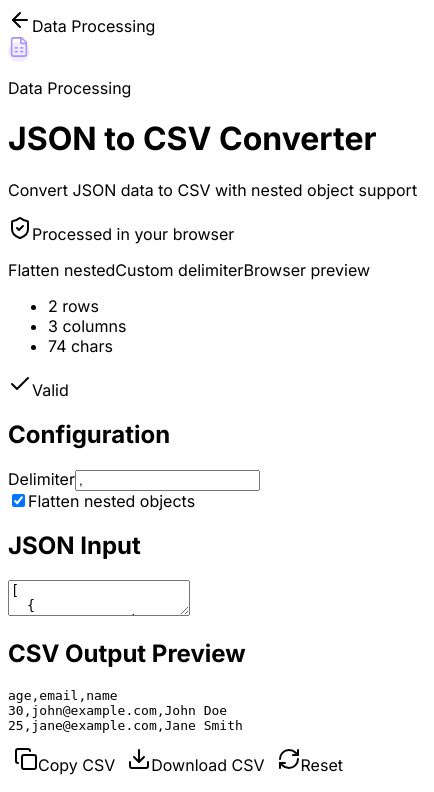
Scenario: JSON to CSV Converter Page › Error Handling › displays error icon for invalid JSON
Clear the text box with test id "codemirror-editor" at (99, 598), box [8,580,190,616]
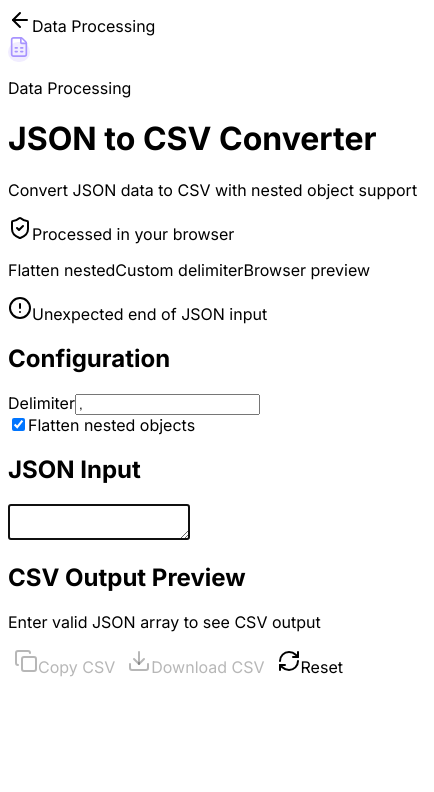
Type "bad json" into the text box with test id "codemirror-editor".
click(99, 522); type("bad json")  # box [8,504,190,540]
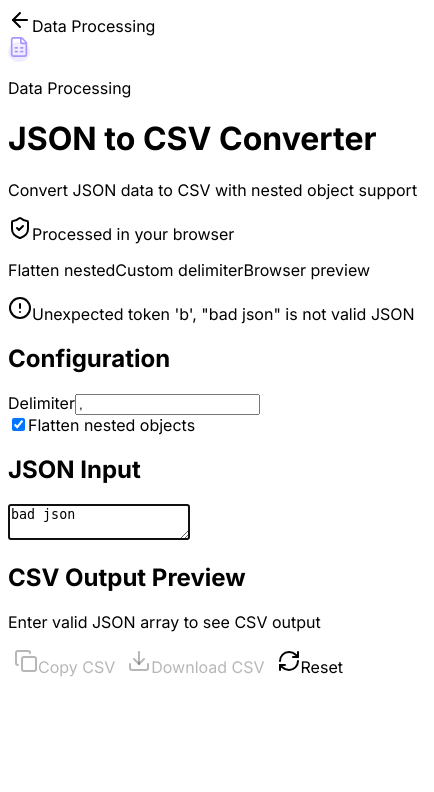
expect the text "Unexpected token 'b', \"bad json\" is not valid JSON" is shown: met, box [32,304,415,324]
